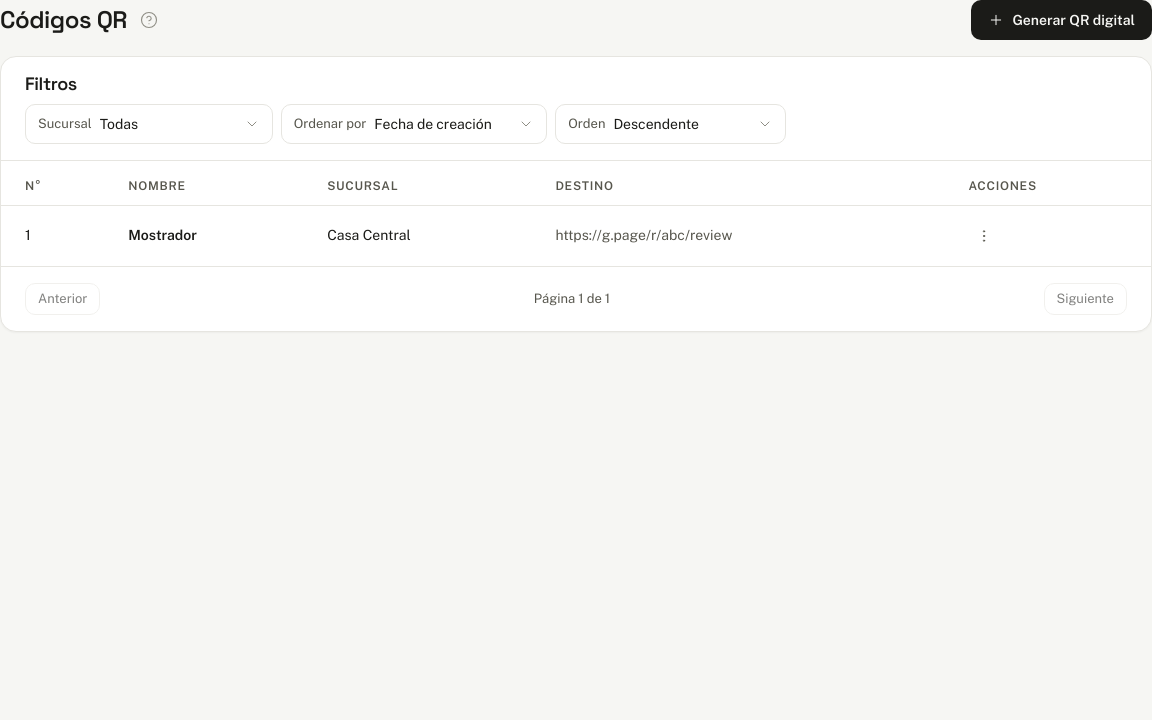
Test: QrListPage — diálogos › Enviar abre el diálogo de envío; Cancelar lo cierra
This screenshot has width=1152, height=720.
Expected: the table is shown, 1,160 -> 1151,266
Step 1. Click the button named "Más acciones" → (984, 236), box 968,220 -> 1000,252
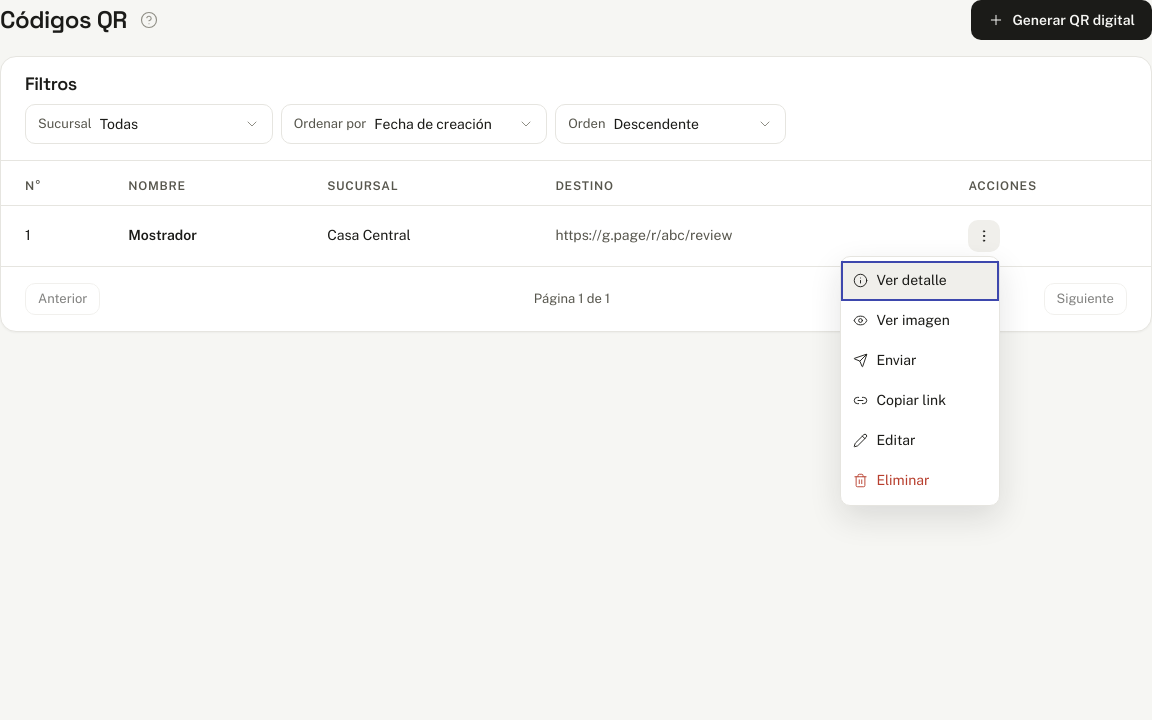
Step 2. Click the menu item "Enviar" → (920, 360), box 841,340 -> 999,380
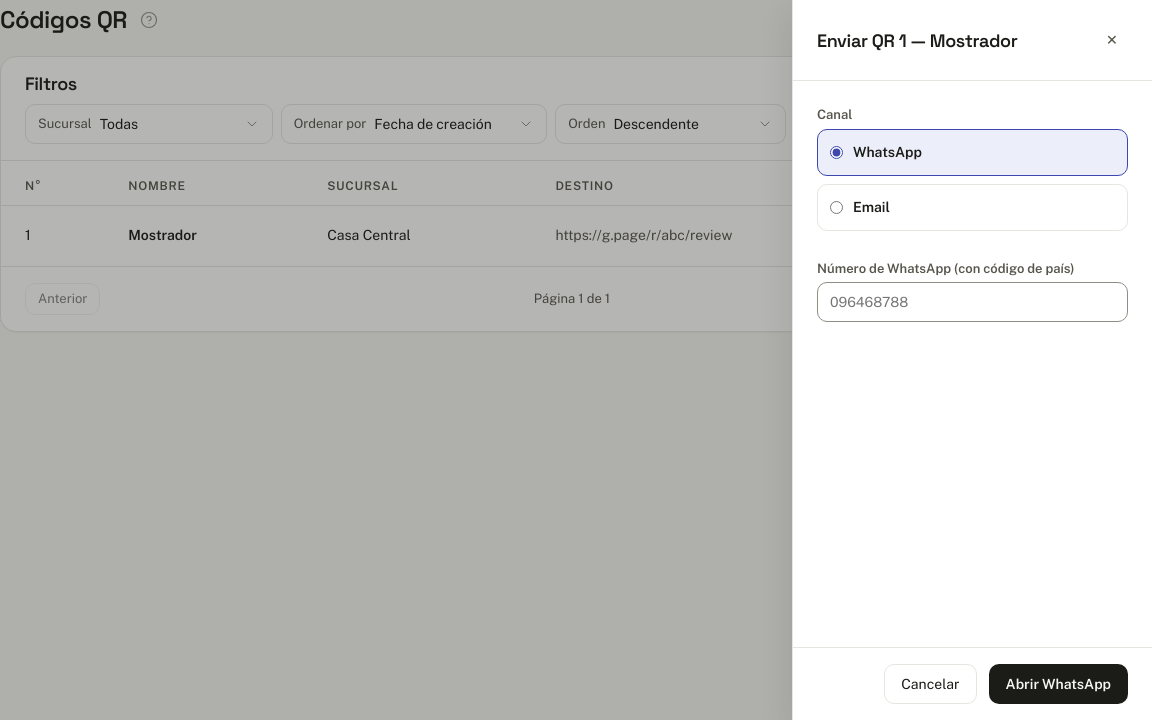
Expected: the element named "Canal de envío" is shown, 817,128 -> 1128,230
Step 3. Click the button "Cancelar" → (930, 684), box 884,664 -> 977,704
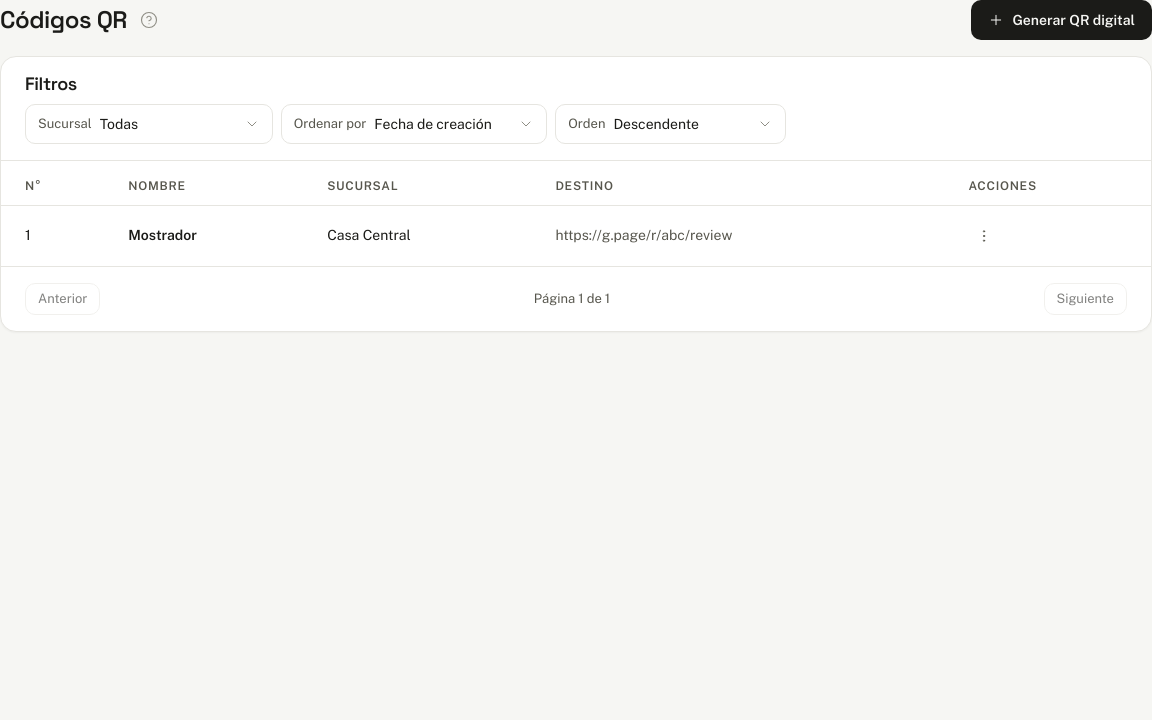
Expected: the dialog is gone
